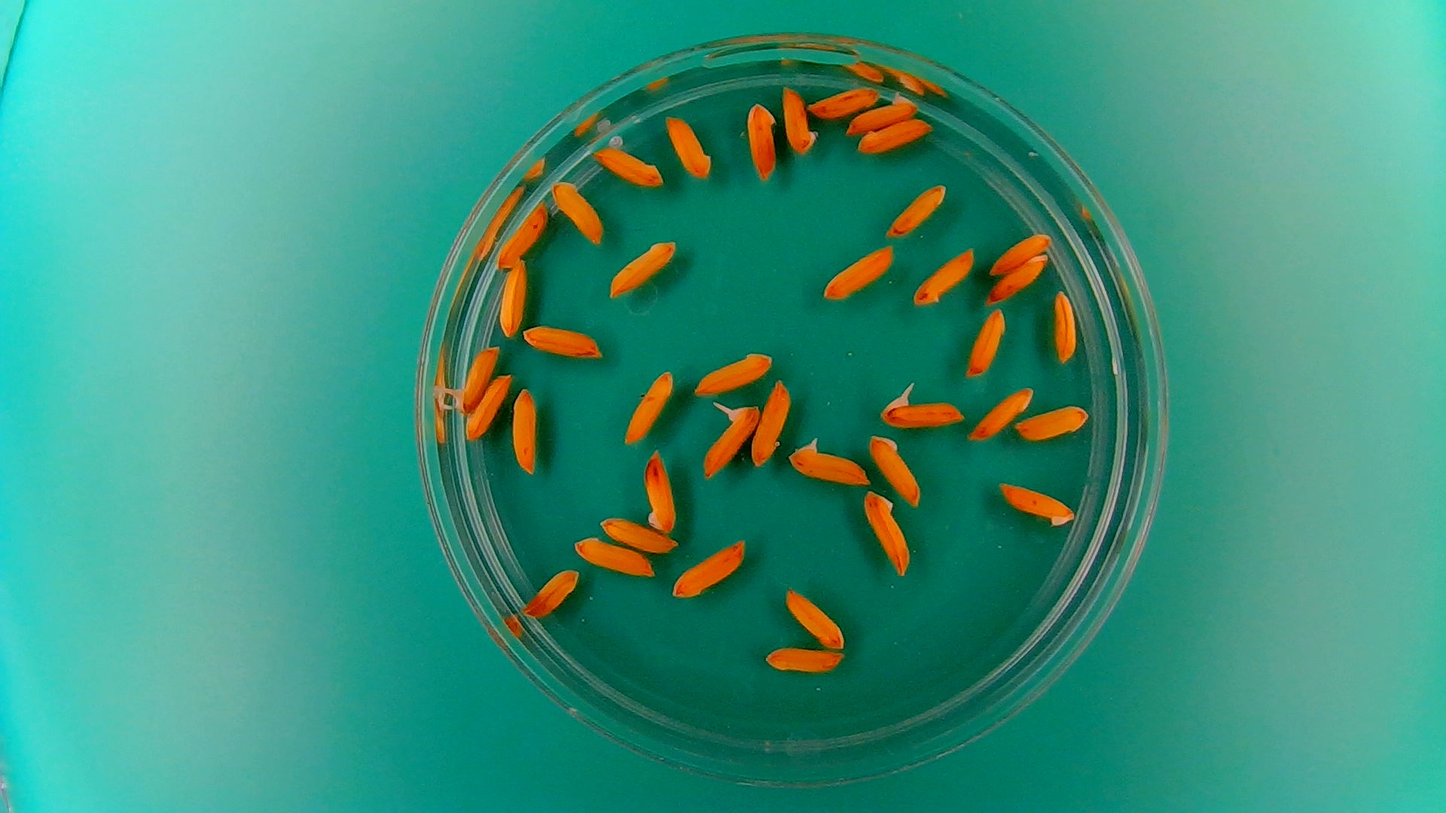no: (670, 536, 749, 600), (861, 486, 914, 579), (606, 236, 679, 300), (867, 431, 924, 508), (587, 143, 668, 197), (821, 242, 895, 301), (782, 583, 848, 649), (908, 245, 978, 307), (621, 366, 676, 444), (996, 478, 1078, 530), (691, 347, 776, 396), (749, 374, 792, 468), (495, 197, 550, 269), (967, 383, 1033, 442), (571, 533, 656, 578), (463, 372, 515, 445), (549, 177, 604, 244), (883, 181, 948, 237), (985, 253, 1051, 305), (664, 112, 713, 180), (520, 565, 580, 620), (520, 321, 604, 360), (642, 447, 679, 535), (597, 514, 679, 553), (1014, 402, 1091, 442), (987, 229, 1052, 275), (966, 306, 1008, 377), (856, 117, 933, 155), (780, 83, 819, 156), (509, 384, 538, 477), (762, 642, 846, 674), (745, 99, 779, 178), (496, 258, 529, 339), (804, 85, 880, 120), (1051, 287, 1079, 363)
yes: (700, 397, 762, 481), (786, 434, 871, 489), (877, 385, 967, 430), (448, 343, 500, 415), (847, 91, 917, 136)
